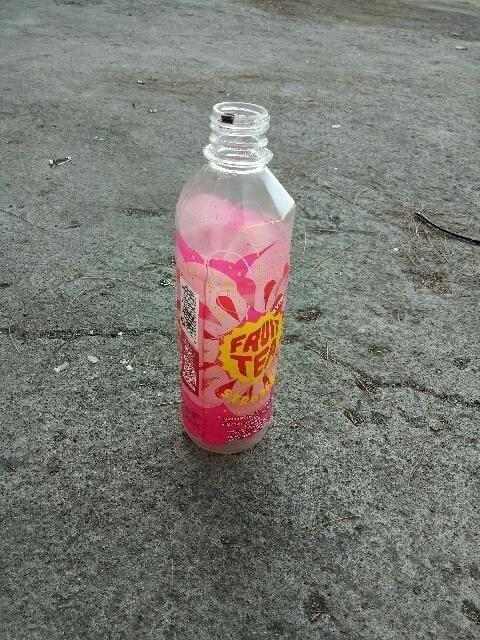bottle-plastic: (170, 100, 297, 457)
